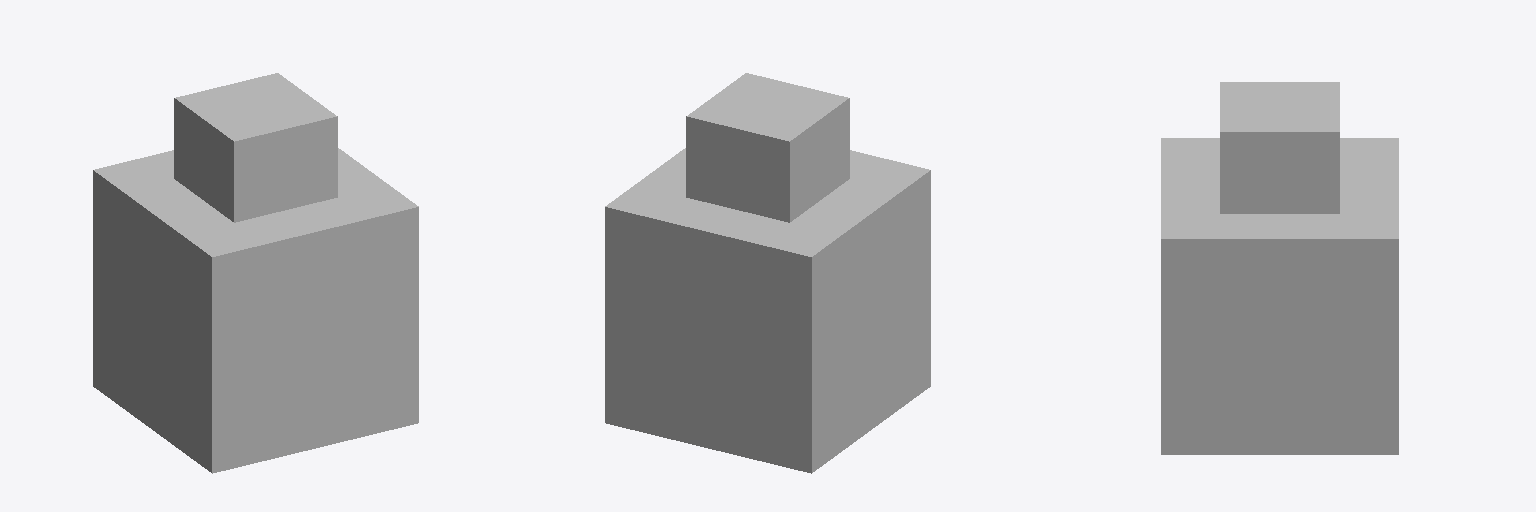
File: texcoord test.obj
3 renders of one model, left to right at view 1: azimuth 30°, elevation 25°; view 2: azimuth 150°, elevation 25°; view 3: azimuth 270°, elevation 25°, orthographic.
Visible parts, largest first — view 1: Cube; view 2: Cube; view 3: Cube.
Part boxes in pixels (bbox=[...]): Cube: bbox=[93, 73, 418, 473]; Cube: bbox=[605, 73, 930, 473]; Cube: bbox=[1161, 82, 1398, 454].
Size of the model in its own units: 2 by 2.75 by 2.